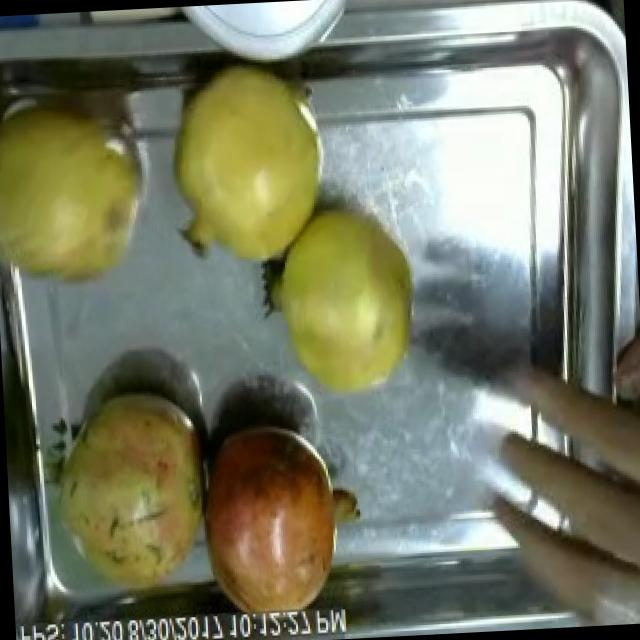fruit: (146, 46, 342, 288), (189, 409, 377, 640), (248, 192, 434, 416), (45, 373, 220, 602), (606, 313, 640, 434)
